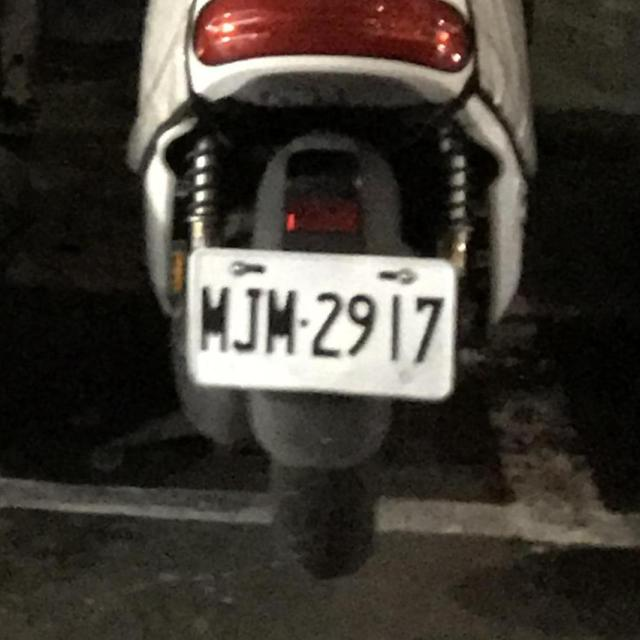W: (170, 218, 468, 416)
